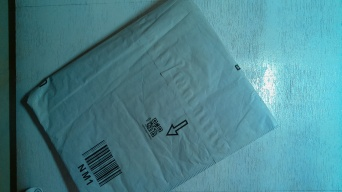a: (21, 2, 278, 192)
